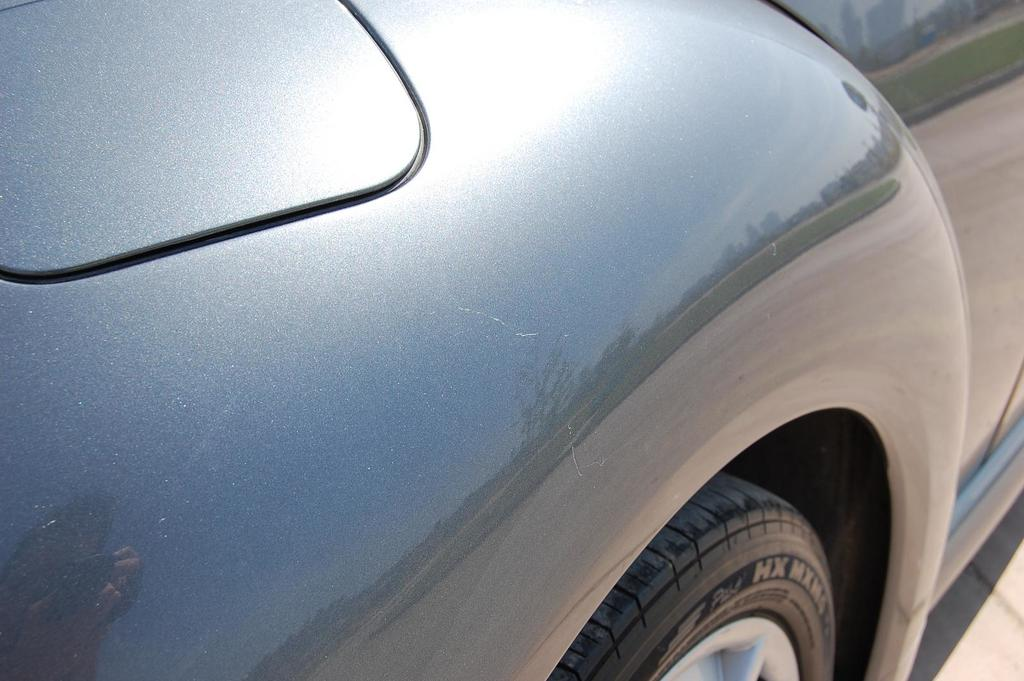Car: (0, 7, 986, 675)
